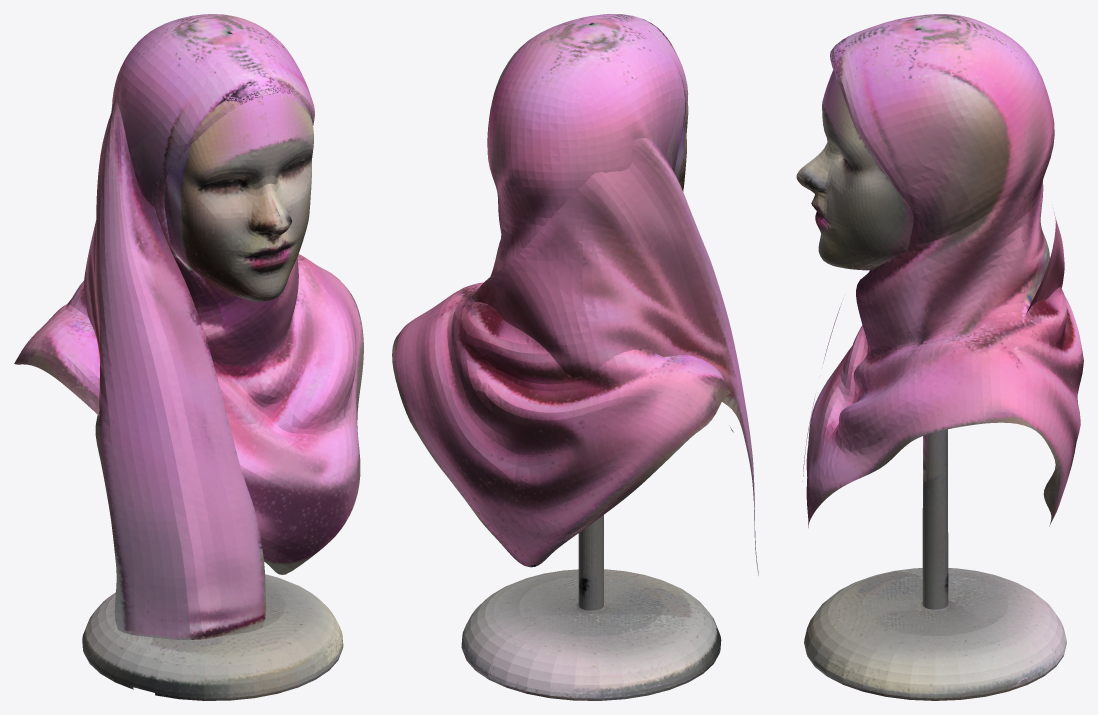
The model's file is textured_texpainter.glb.
3 views of the same model, side by side, from view 1: azimuth 30°, elevation 25°; view 2: azimuth 150°, elevation 25°; view 3: azimuth 270°, elevation 25° (orthographic).
Parts seen in each view (by area): view 1: Node-Mesh; view 2: Node-Mesh; view 3: Node-Mesh.
Boxes of the visible parts, bbox=[...] form: Node-Mesh: bbox=[14, 14, 363, 700]; Node-Mesh: bbox=[392, 14, 758, 700]; Node-Mesh: bbox=[796, 14, 1083, 700].
Size of the model in its own units: 1.07 by 2 by 0.8639.
1 material, 1 textured.
